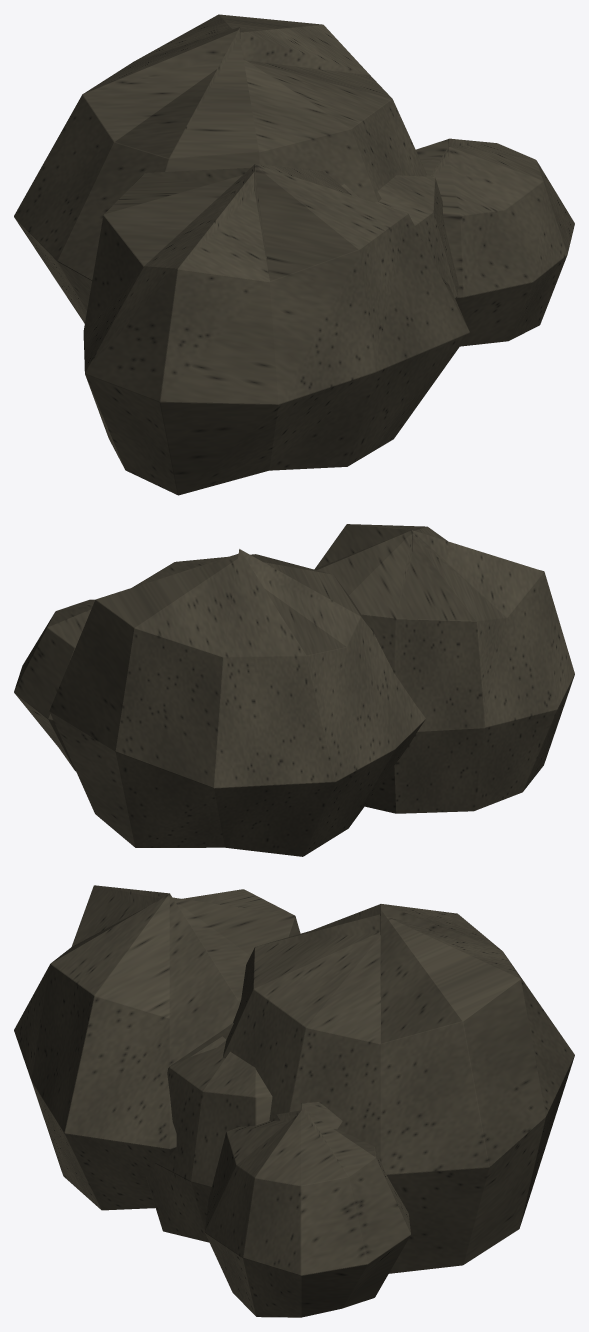
File: PROP-CD51229BED7C_lod1.glb
The picture shows the model from 3 angles, top to bottom: view 1: azimuth 30°, elevation 25°; view 2: azimuth 150°, elevation 25°; view 3: azimuth 270°, elevation 25°; orthographic projection. The views are drawn at different scales.
Visible parts, largest first — view 1: rock.008; view 2: rock.008; view 3: rock.008.
Boxes of the visible parts, bbox=[...] form: rock.008: bbox=[14, 14, 574, 495]; rock.008: bbox=[14, 524, 574, 856]; rock.008: bbox=[14, 885, 574, 1317].
Bounding box in the file's own units: 1.67 × 0.8895 × 1.5.
1 material, 1 textured.
